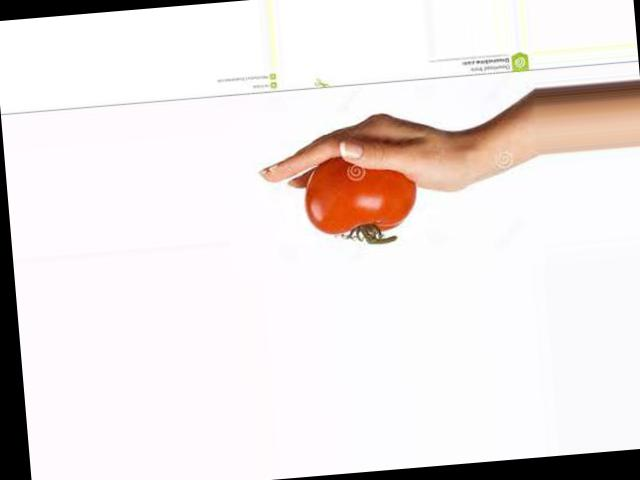tomato: (301, 151, 419, 237)
